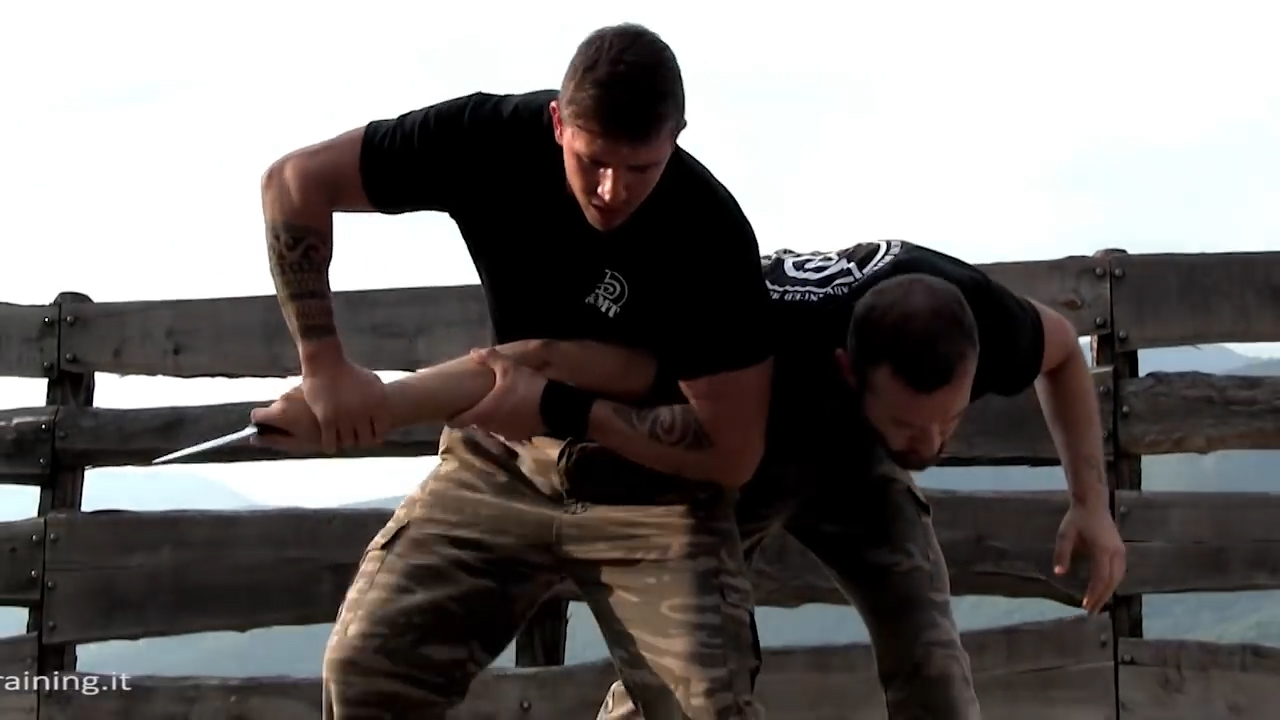knife: (139, 377, 297, 470)
